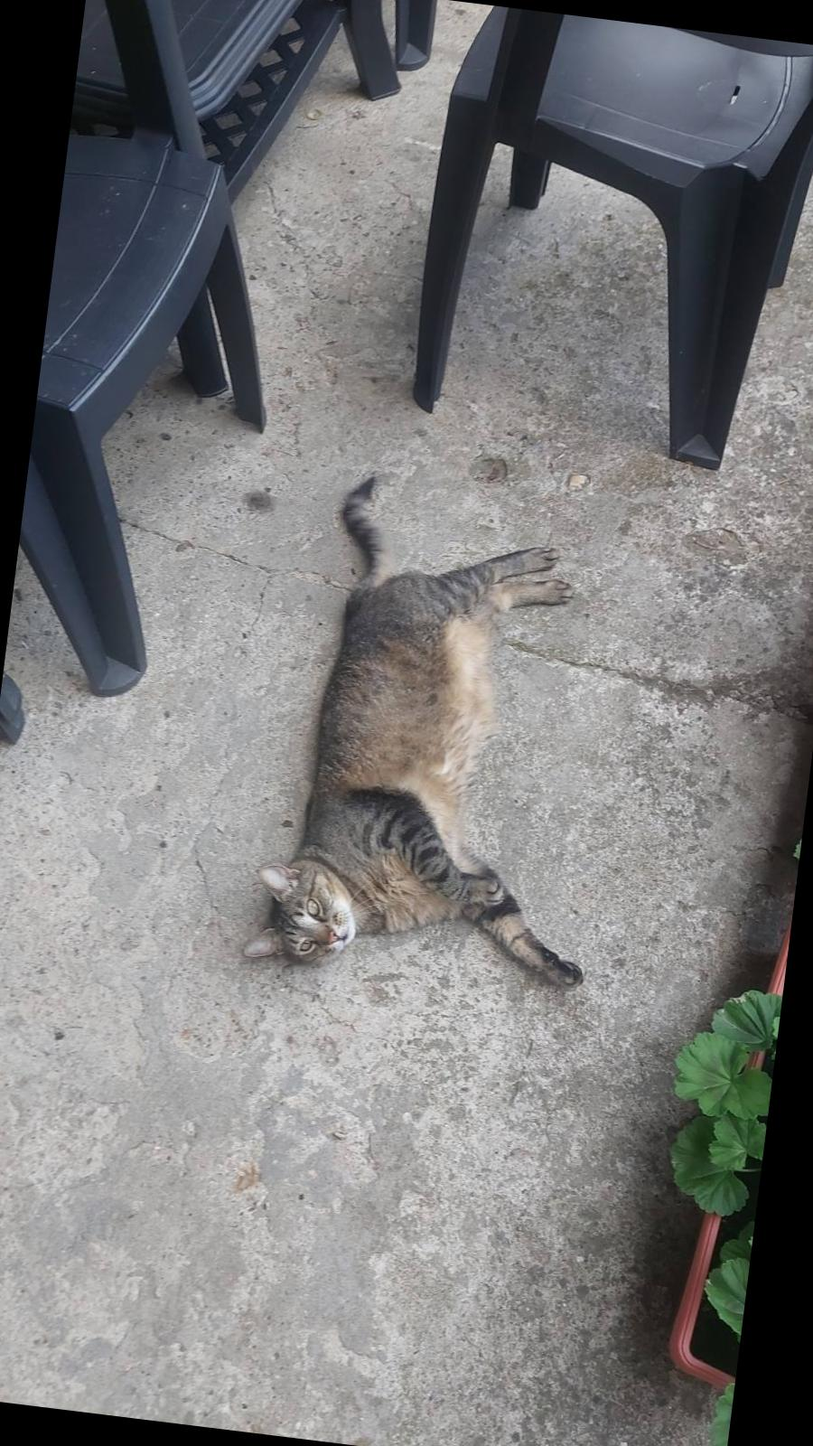macka: (242, 468, 639, 998)
